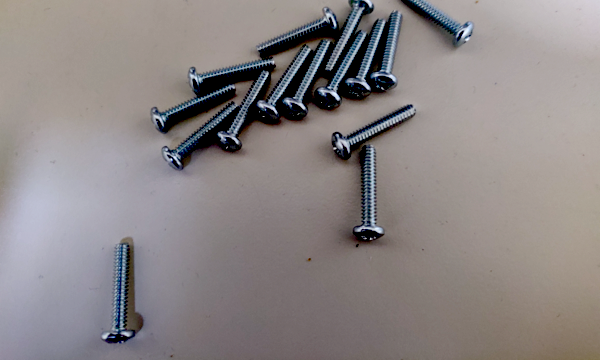longscrew: (161, 100, 238, 172), (152, 80, 239, 131), (333, 104, 417, 156), (253, 5, 334, 57), (316, 30, 368, 109), (217, 71, 271, 146), (256, 47, 310, 121), (284, 38, 332, 121), (185, 52, 277, 92), (355, 142, 389, 246), (324, 0, 372, 72), (397, 0, 475, 42), (102, 243, 134, 345), (347, 17, 385, 97), (374, 10, 410, 91)
